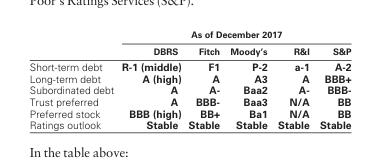table: (28, 28, 350, 130)
table column: (28, 28, 117, 130), (117, 28, 184, 130), (224, 28, 271, 130), (271, 28, 313, 130), (184, 28, 224, 130), (313, 28, 350, 130)
table column header: (28, 28, 350, 58)
table row: (28, 42, 350, 58), (28, 28, 350, 42), (28, 58, 350, 72), (28, 83, 350, 95), (28, 95, 350, 107), (28, 118, 350, 130), (28, 72, 350, 83), (28, 107, 350, 118)
table spanning cell: (117, 28, 350, 42)
